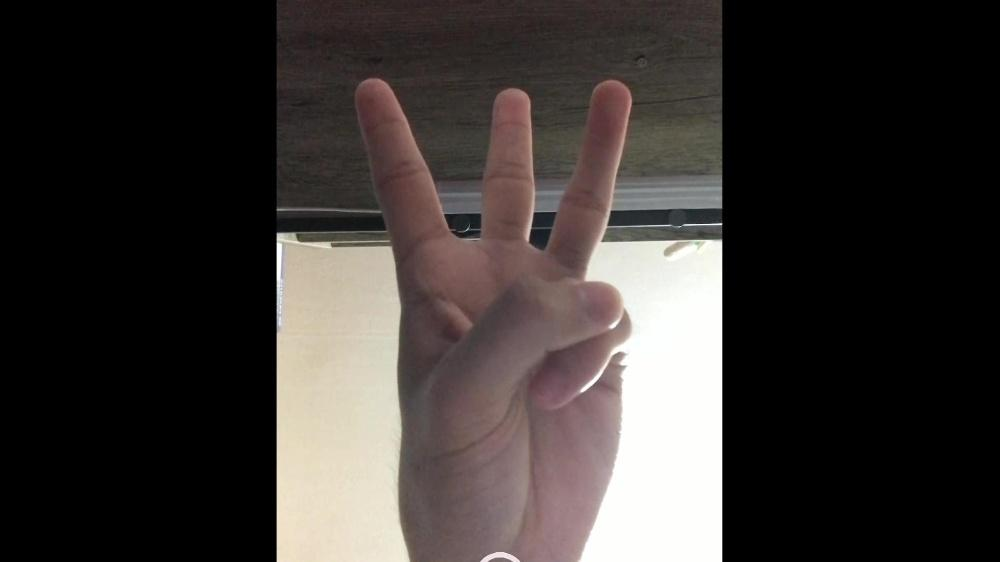w: (352, 73, 634, 537)
